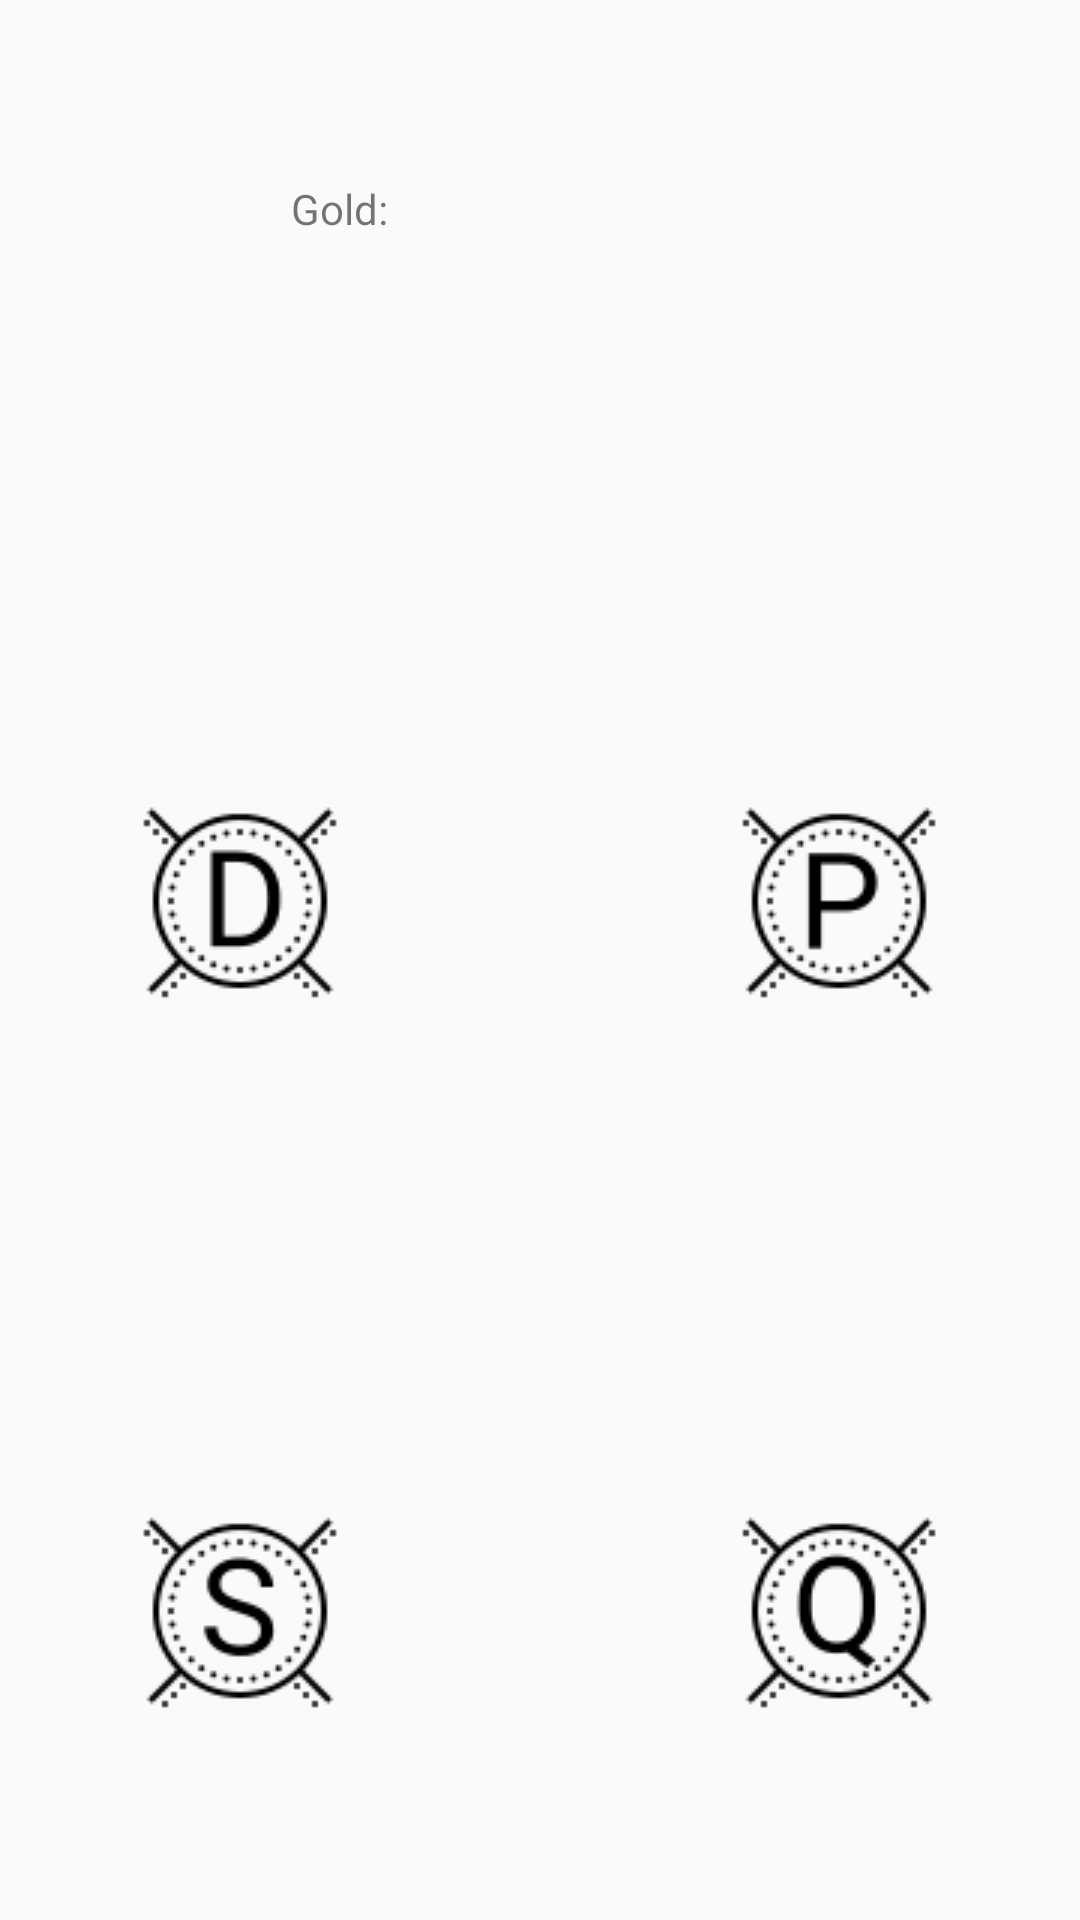

Icons on this 1080px×1920px Android screen, each with the point to tap as (x,y):
dollar: (240,902)
penny: (839,902)
quid: (839,1612)
shil: (240,1612)
